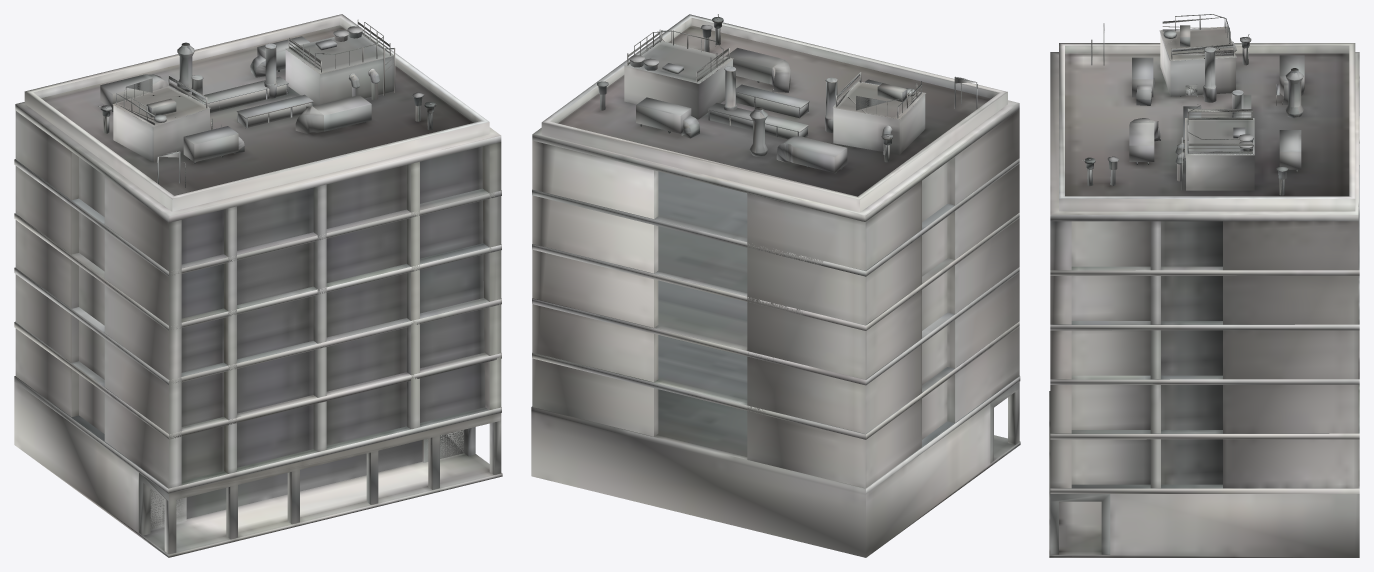
Rendered from city-mid-rise.glb.
3 views of the same model, side by side, from view 1: azimuth 30°, elevation 25°; view 2: azimuth 150°, elevation 25°; view 3: azimuth 270°, elevation 25° (orthographic).
Parts seen in each view (by area): view 1: Concrete mid-rise; view 2: Concrete mid-rise; view 3: Concrete mid-rise.
Boxes of the visible parts, x1,y1,x2,y2 form: Concrete mid-rise: (14, 14, 502, 557); Concrete mid-rise: (531, 14, 1020, 557); Concrete mid-rise: (1049, 14, 1359, 557).
Size of the model in its own units: 0.8809 by 0.998 by 0.7051.
1 material, 1 textured.
